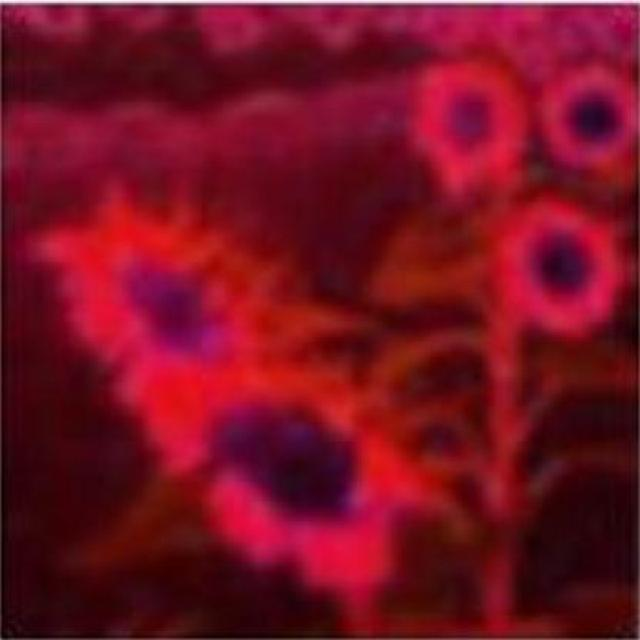sunflower: (148, 367, 442, 598), (490, 191, 636, 351), (413, 63, 530, 192)
